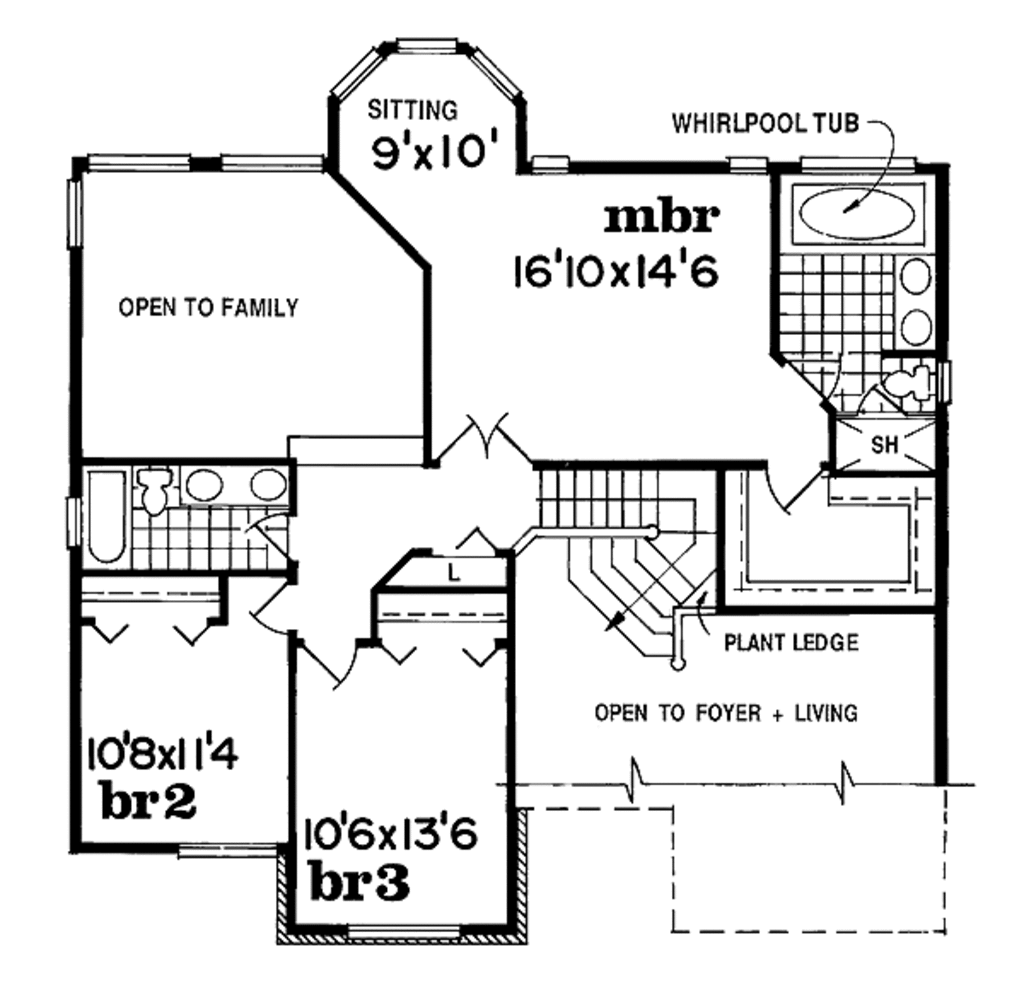door: (428, 404, 541, 458), (245, 573, 297, 646), (759, 464, 828, 518), (305, 618, 351, 697), (241, 504, 293, 566)
large_sink: (879, 355, 951, 423), (133, 466, 171, 520)
small_sink: (184, 460, 304, 515), (894, 257, 948, 358)
stairs: (541, 467, 727, 675)
tub: (781, 164, 941, 260), (82, 464, 130, 567)
window: (330, 27, 530, 103), (79, 150, 319, 180), (347, 910, 470, 950), (176, 829, 287, 869), (796, 152, 922, 172), (524, 143, 573, 180), (724, 141, 774, 175), (67, 181, 90, 252)
